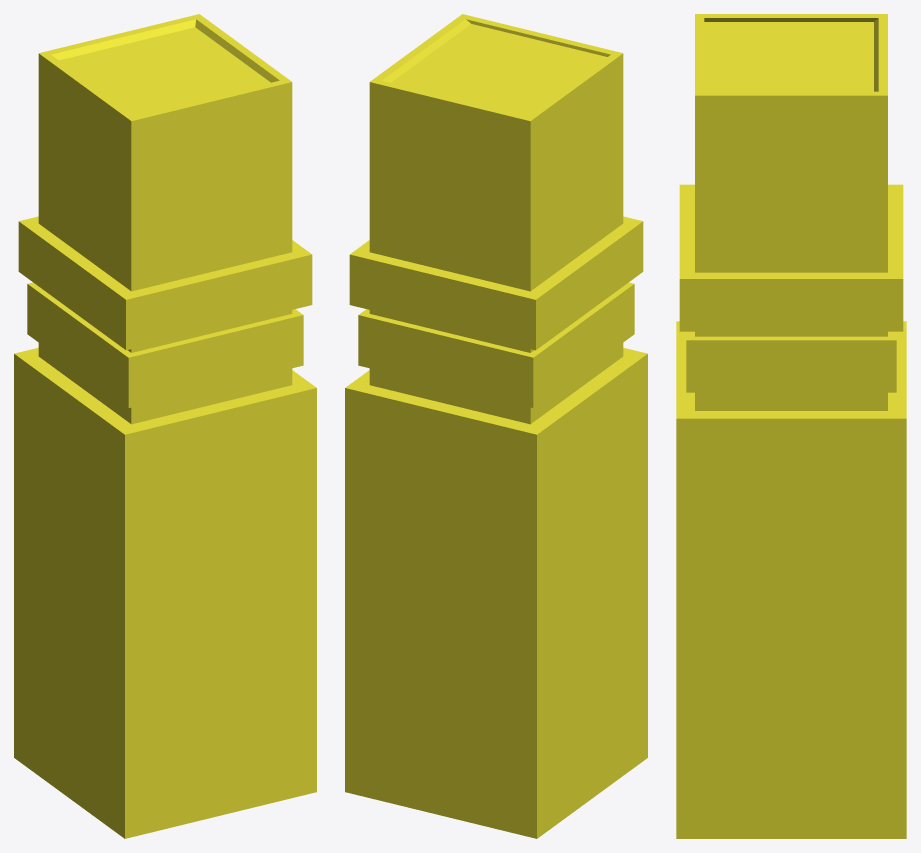
Rendered from Building8_yellow.fbx.
The picture shows the model from 3 angles, left to right: view 1: azimuth 30°, elevation 25°; view 2: azimuth 150°, elevation 25°; view 3: azimuth 270°, elevation 25°; orthographic projection. The views are drawn at different scales.
Visible parts, largest first — view 1: Building 8; view 2: Building 8; view 3: Building 8.
Part boxes in pixels (x1,y1,x2,y2): Building 8: (14,14,316,838); Building 8: (345,14,647,838); Building 8: (676,14,906,838).
Bounding box in the file's own units: 1195 × 4206 × 1195.
Materials: 1 (1 with a texture image).
